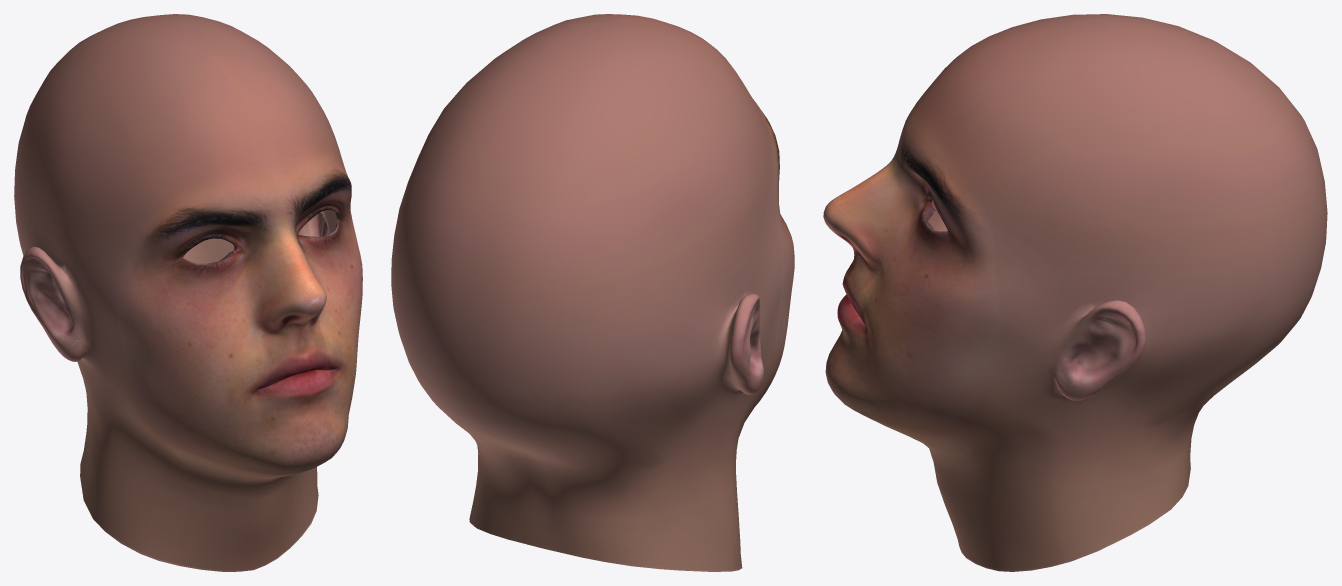
3 renders of one model, left to right at view 1: azimuth 30°, elevation 25°; view 2: azimuth 150°, elevation 25°; view 3: azimuth 270°, elevation 25°, orthographic. The views are drawn at different scales.
Visible parts, largest first — view 1: FaceGen; view 2: FaceGen; view 3: FaceGen.
Part boxes in pixels (left/top/right/bottom): FaceGen: left=14, top=14, right=362, bottom=571; FaceGen: left=391, top=14, right=794, bottom=571; FaceGen: left=823, top=14, right=1327, bottom=571.
Size of the model in its own units: 179 by 277 by 244.
1 material, 1 textured.
